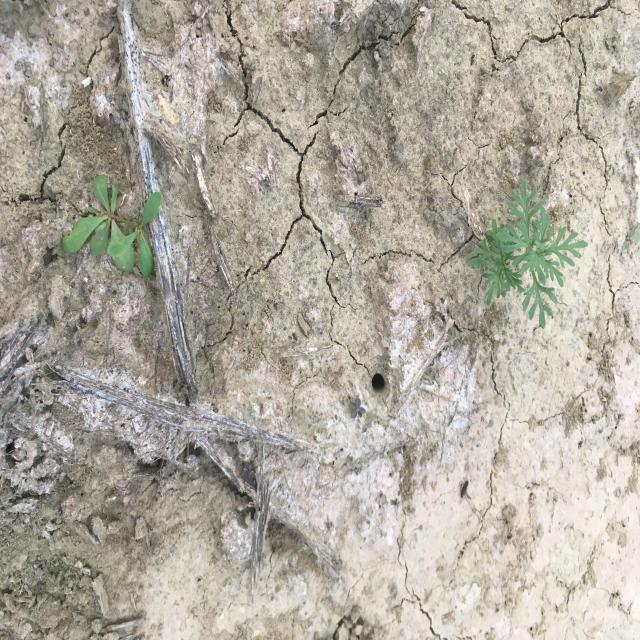Carpetweed: (59, 173, 163, 279)
Ragweed: (462, 177, 590, 332)
